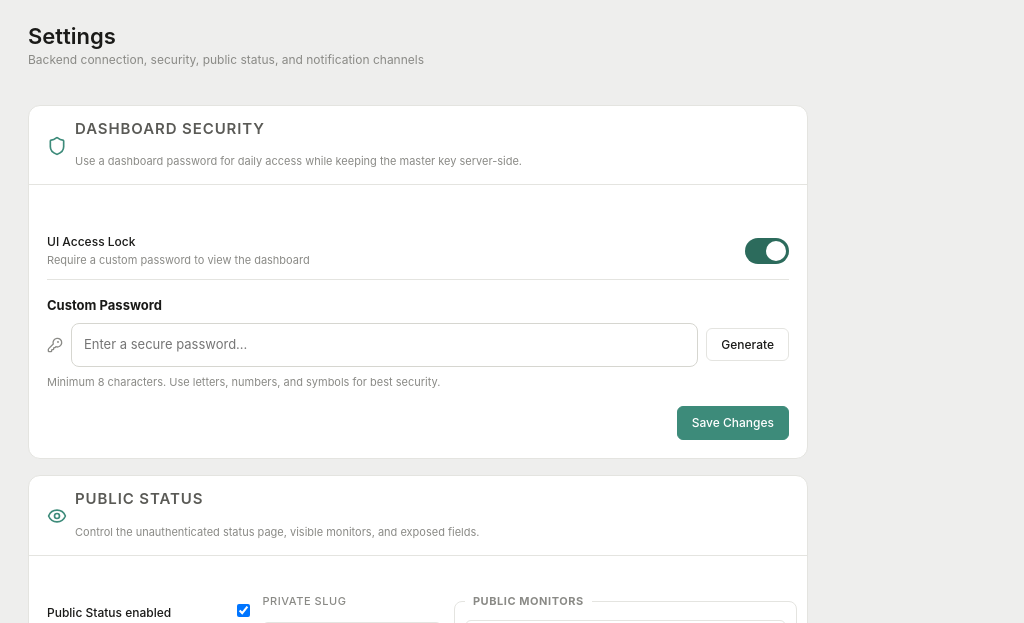
Test: Settings › shows an API error when saving fails
This screenshot has width=1024, height=623.
Type "secure-pass-1" into the field labelled "Custom Password" at point(385, 344), box [71,322,698,366]
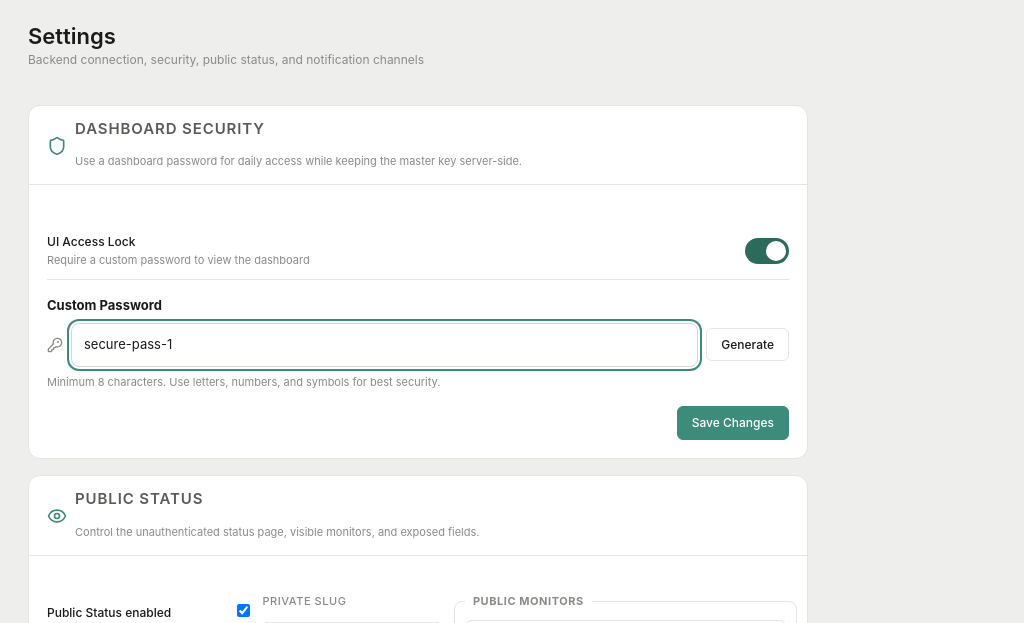
Click the button "Save Changes" at point(733, 423), box [677,406,789,440]
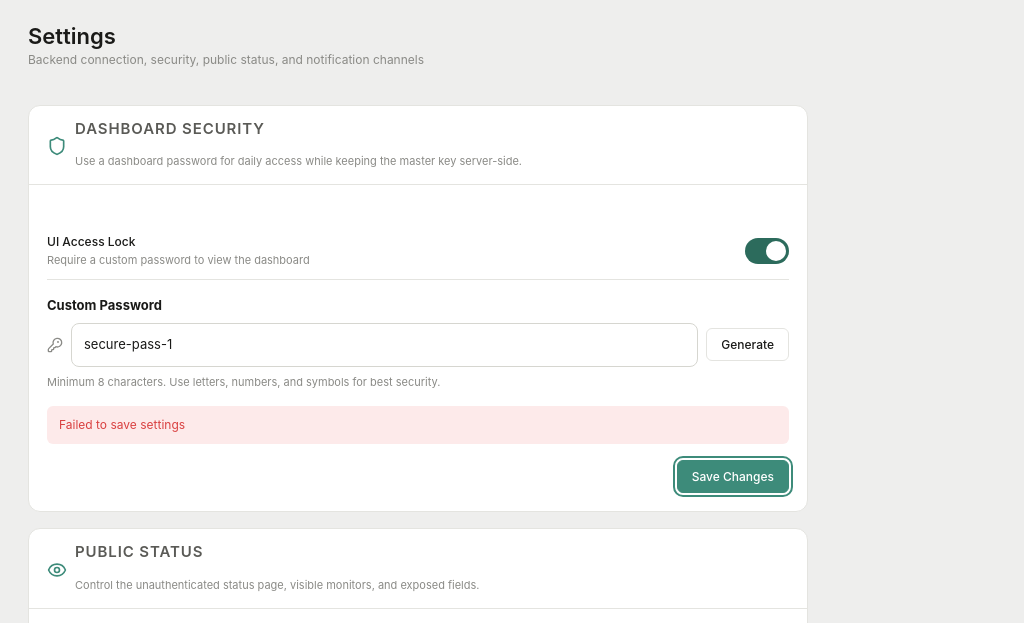
expect the text "Failed to save settings" is shown: met, box [47,406,789,444]
